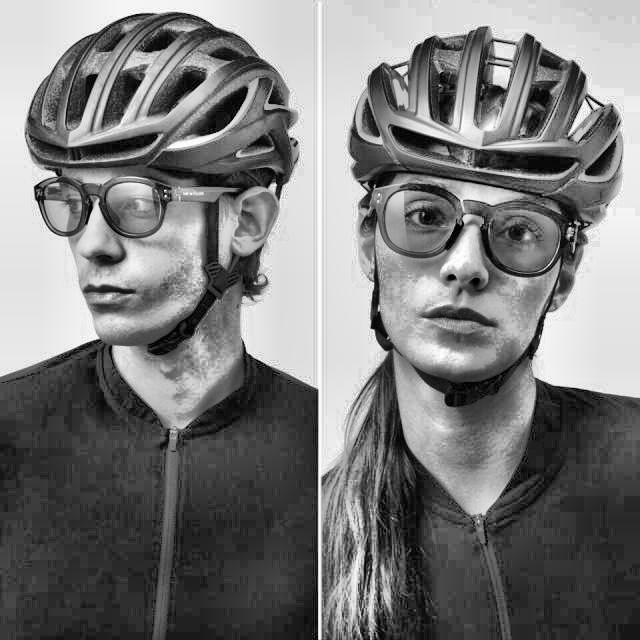Helmet: (338, 24, 628, 409), (20, 2, 305, 358)
